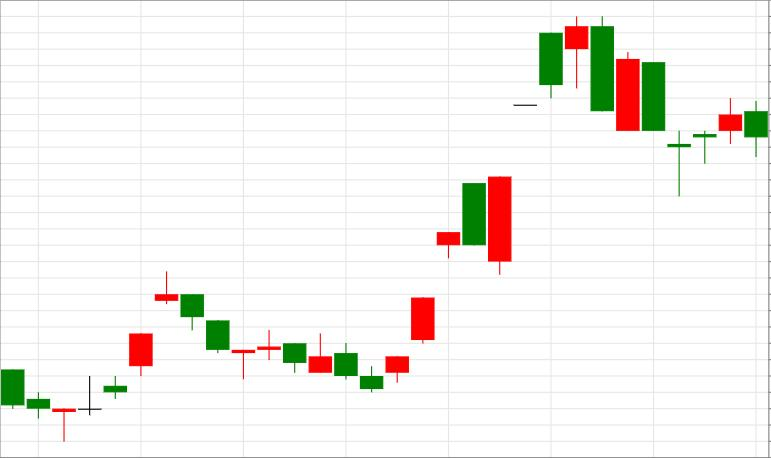bearish_engulfing_fall: (386, 16, 613, 383)
